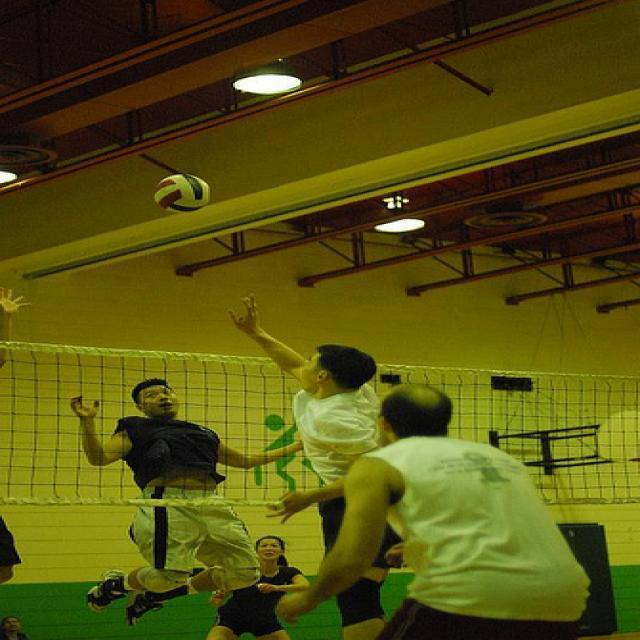volleyball: (154, 174, 210, 214)
